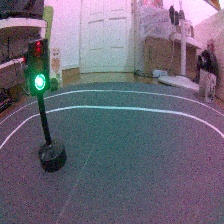green: (19, 33, 71, 173)
